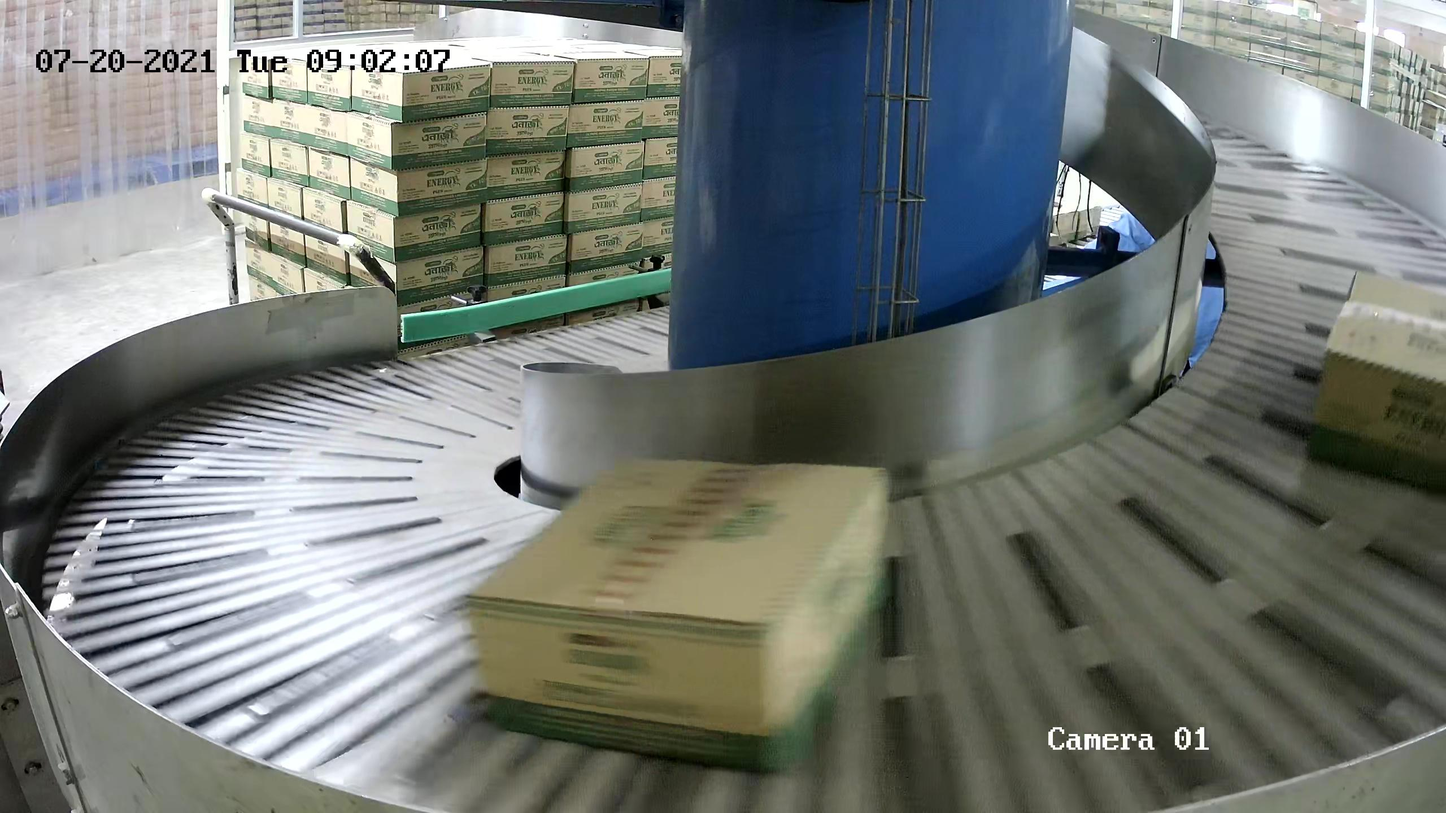Box: (463, 454, 895, 776), (1306, 269, 1446, 494)
